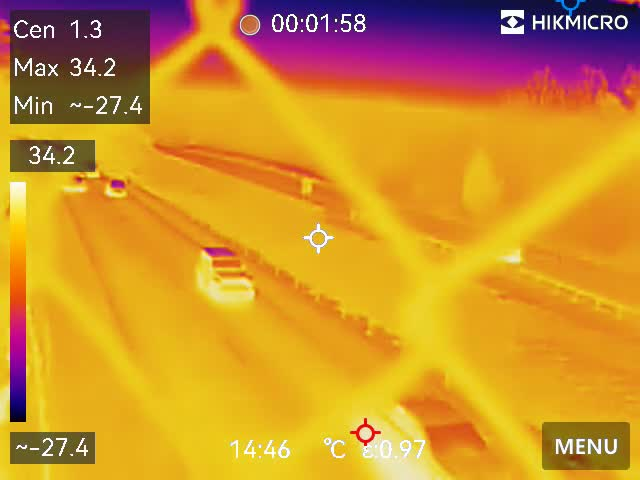largeCar: (193, 241, 256, 302)
vehicle: (362, 382, 503, 475), (102, 174, 129, 199)
